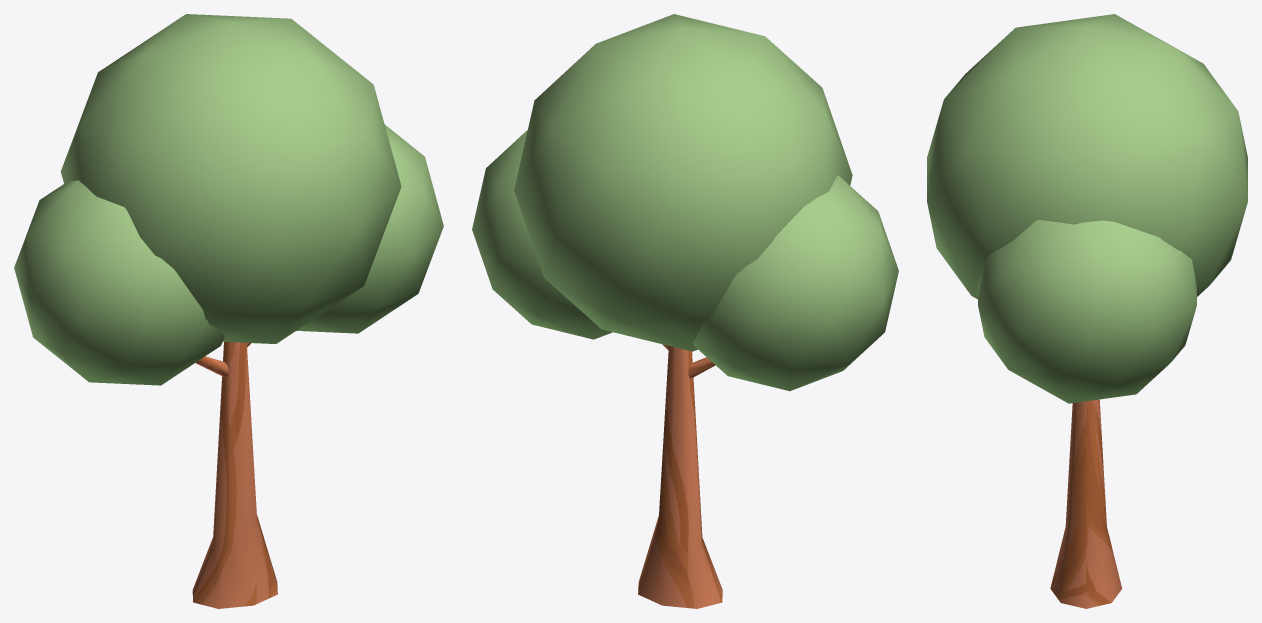
Rendered from OBJ_Tree_001.fbx.
3 views of the same model, side by side, from view 1: azimuth 30°, elevation 25°; view 2: azimuth 150°, elevation 25°; view 3: azimuth 270°, elevation 25° (orthographic).
Parts seen in each view (by area): view 1: Tree_001; view 2: Tree_001; view 3: Tree_001.
Boxes of the visible parts, x1=… form: Tree_001: x1=14, y1=14, x2=443, y2=608; Tree_001: x1=472, y1=14, x2=898, y2=608; Tree_001: x1=927, y1=14, x2=1247, y2=608.
Bounding box in the file's own units: 4446 × 6046 × 3139.
